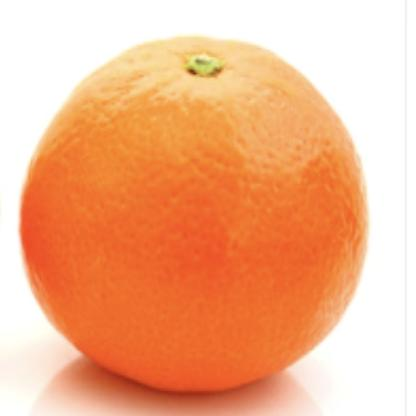fresh: (15, 34, 367, 391)
